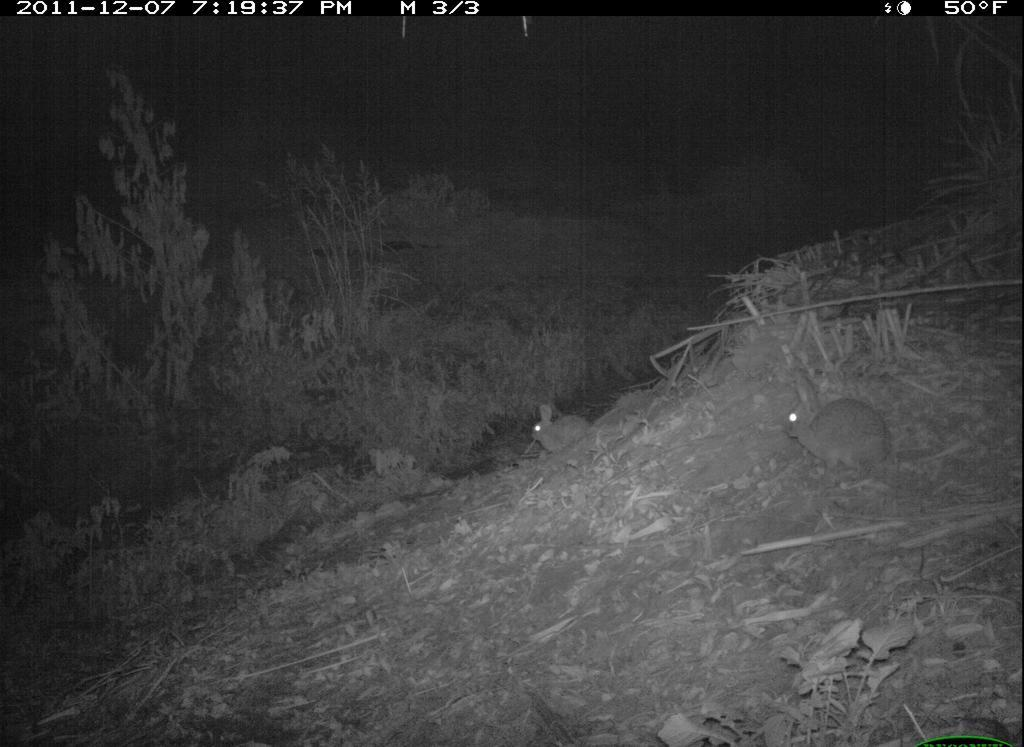rabbit: (776, 368, 907, 478), (519, 396, 596, 464)
